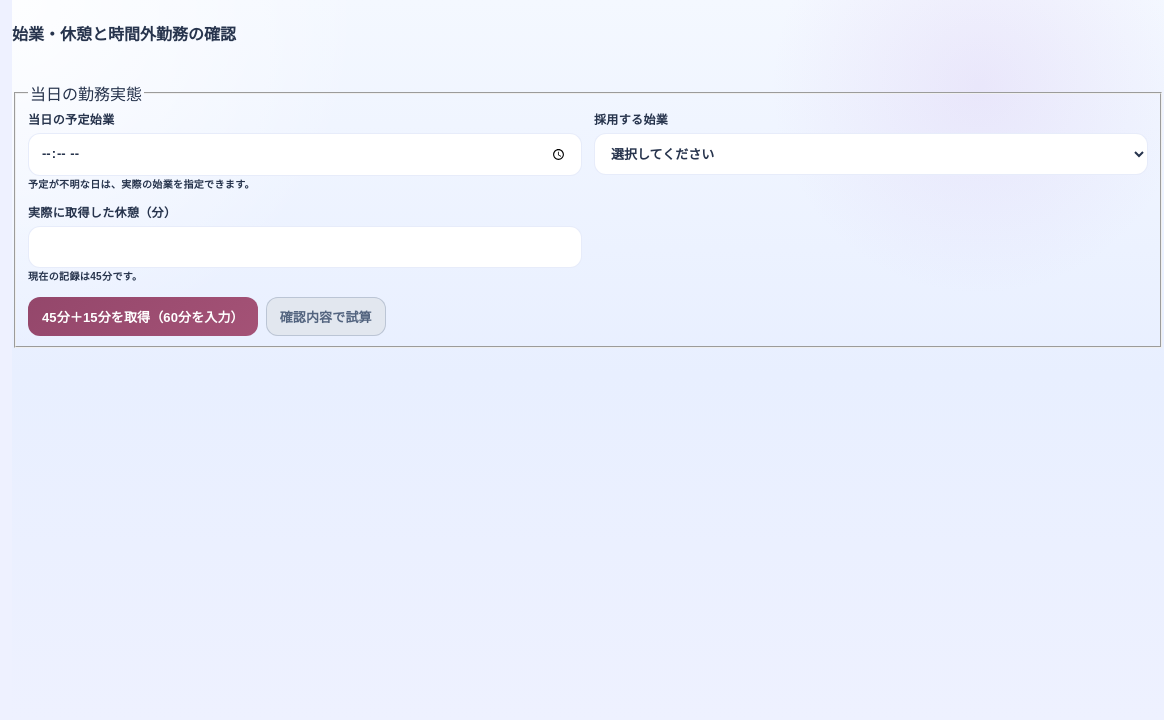
Scenario: 休憩不足の日次確認 › 予定不明では推定せず、実際の始業・休憩を入力して試算し明示的に計上する
This screenshot has width=1164, height=720.
Later steps or results of the test are not shown.
Expected: the button "確認内容で試算" is disabled, x1=266 y1=297 x2=386 y2=336
Select "予定・原打刻の計算ルールを使う" in the dropdown labelled "採用する始業" at [871, 154], box x1=594 y1=133 x2=1148 y2=175
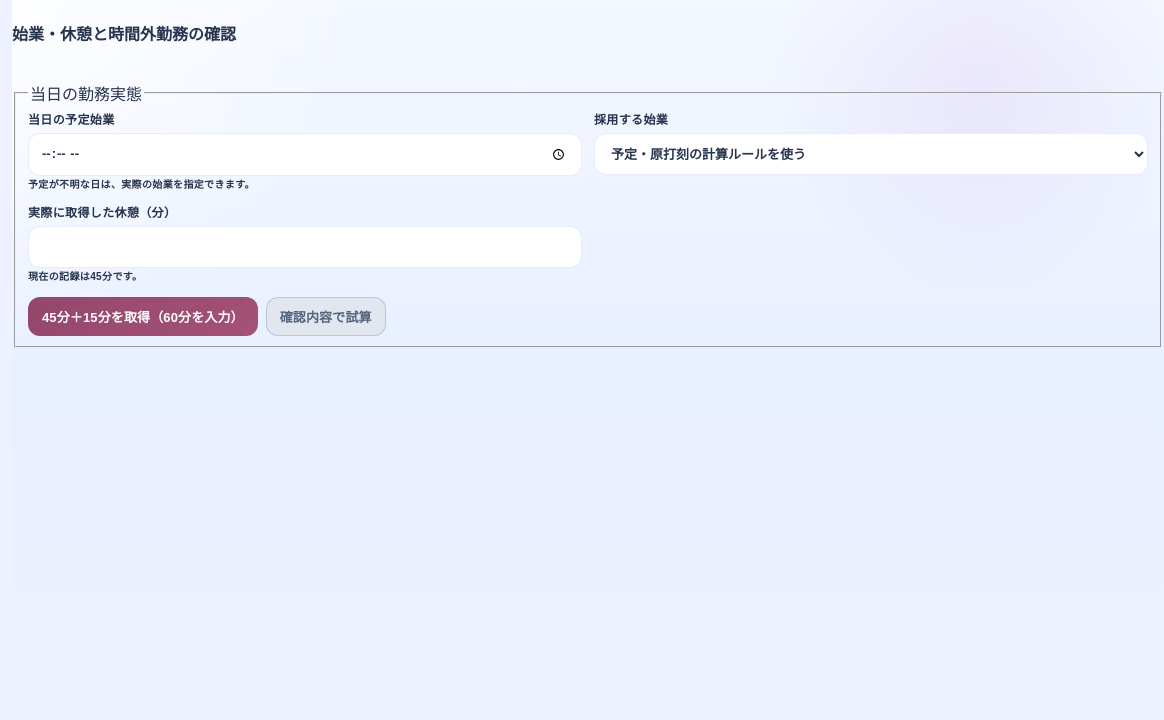
Click the button "45分＋15分を取得（60分を入力）" at [143, 316], box x1=28 y1=297 x2=258 y2=336
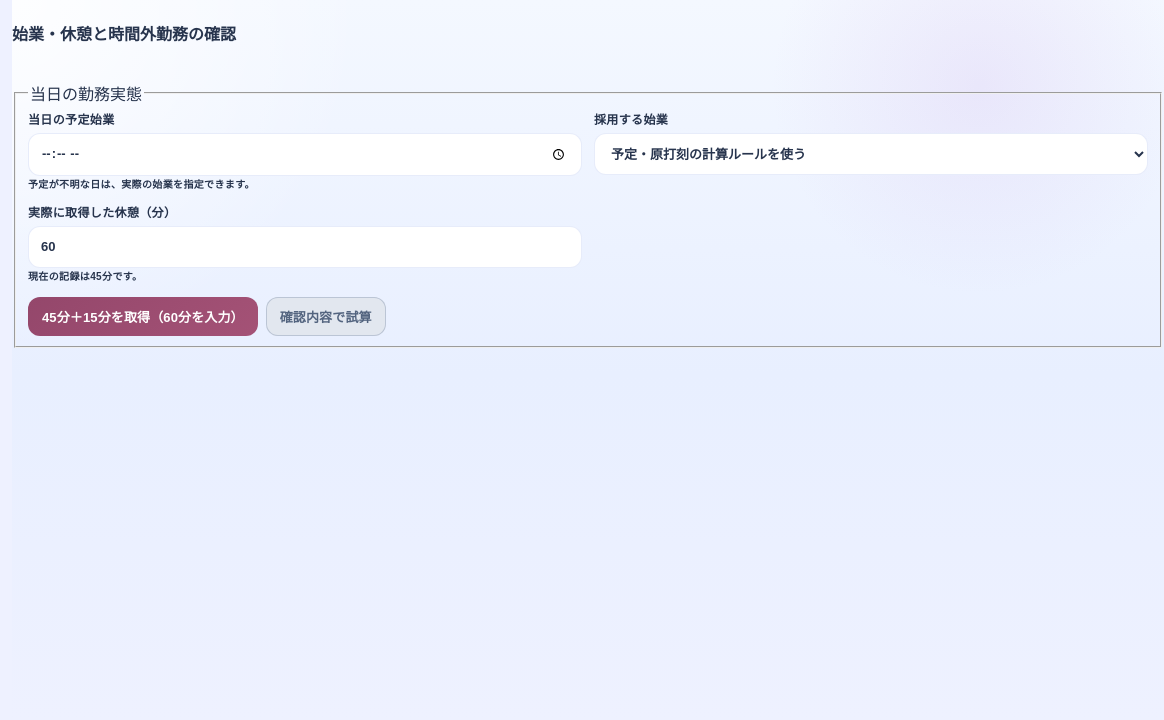
Expected: the button "確認内容で試算" is disabled, x1=266 y1=297 x2=386 y2=336
Select "実際の始業を指定する" in the dropdown labelled "採用する始業" at [871, 154], box x1=594 y1=133 x2=1148 y2=175
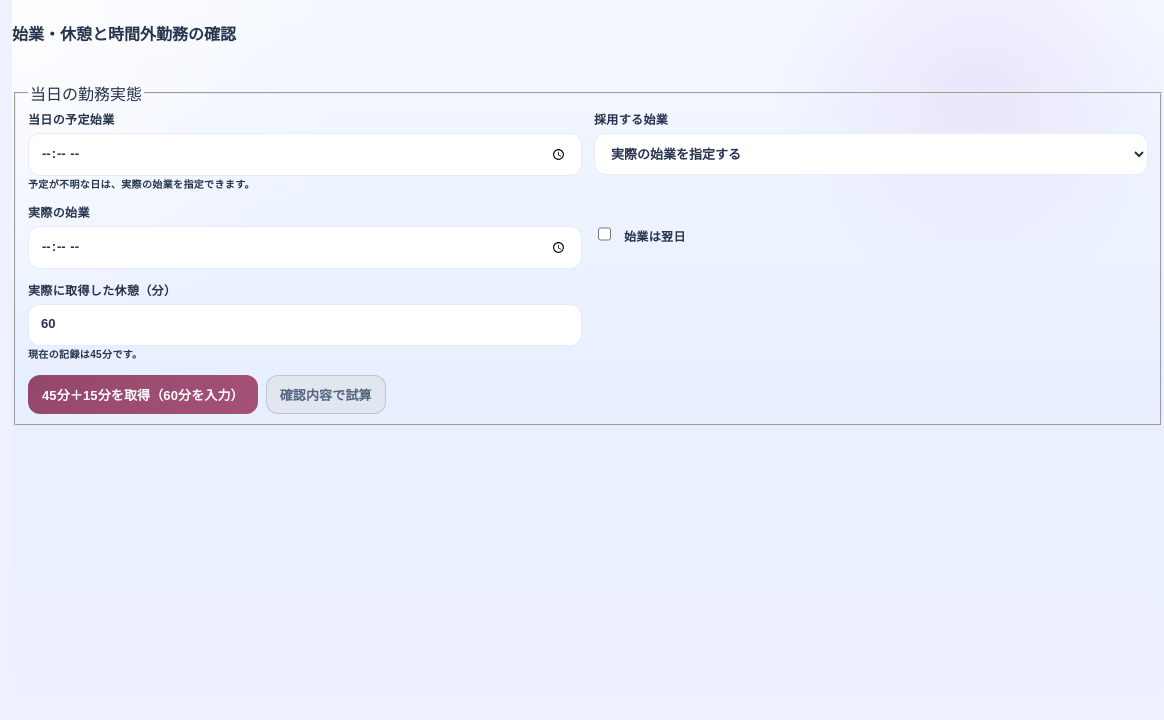
Type "07:56" into the time field labelled "実際の始業" at [305, 247], box x1=28 y1=226 x2=582 y2=269
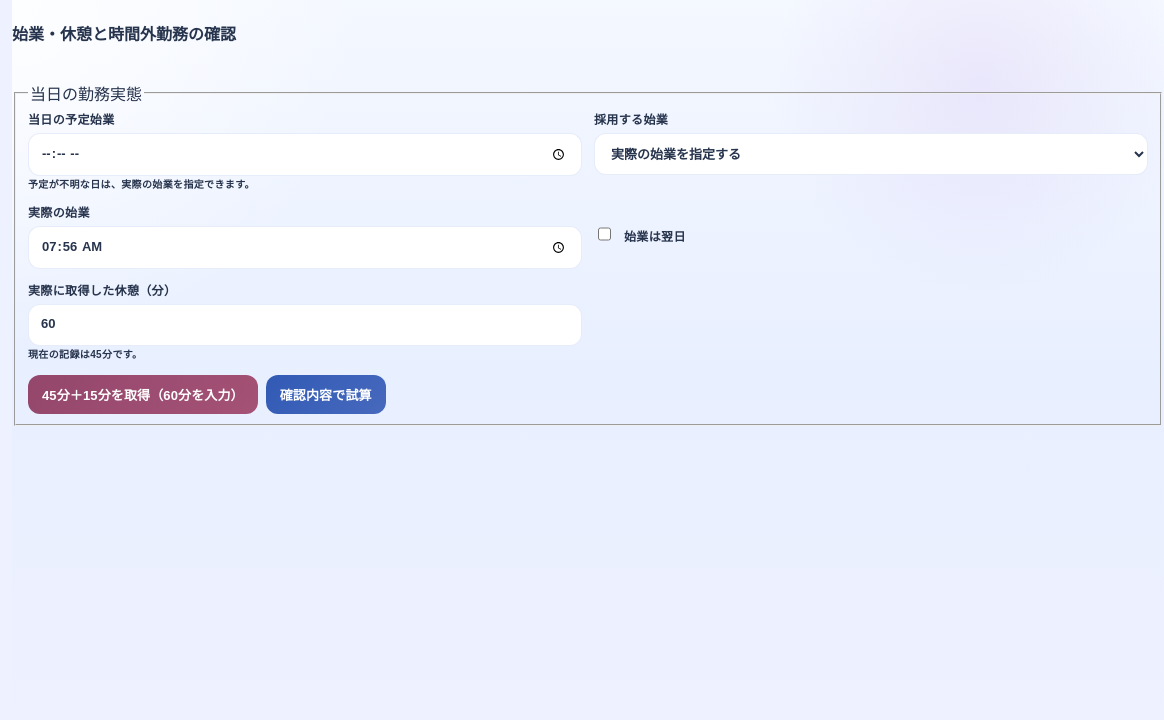
Click the button "確認内容で試算" at [326, 394], box x1=266 y1=375 x2=386 y2=414
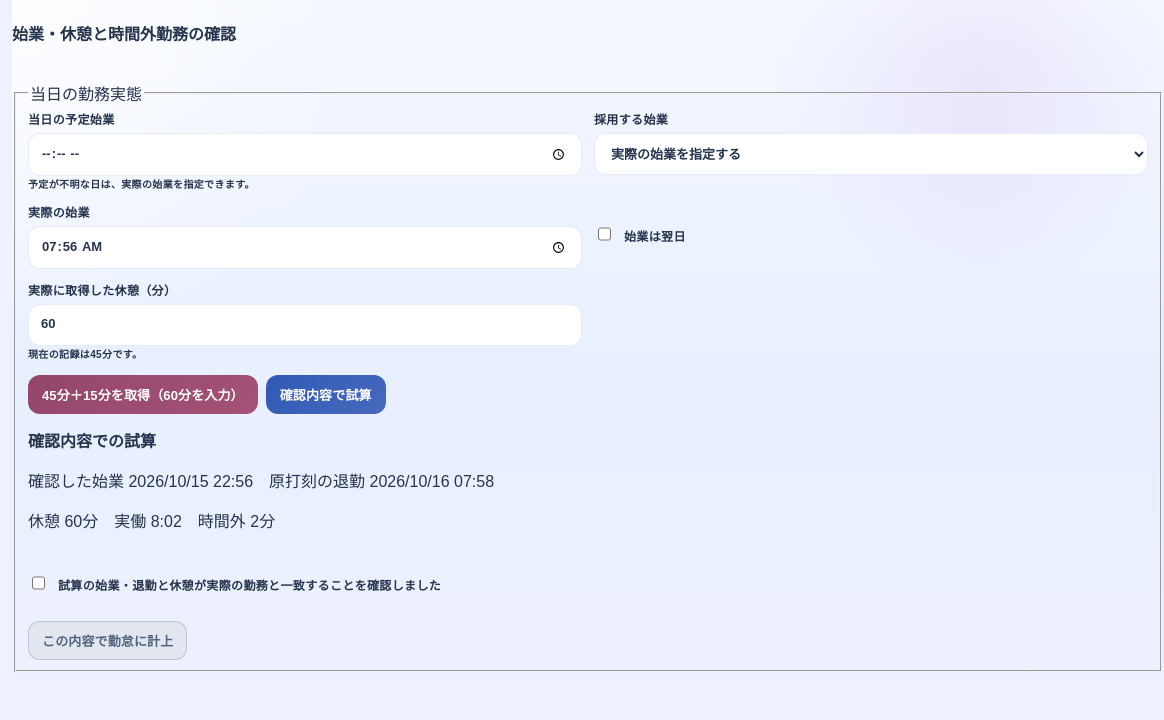
Now the button "この内容で勤怠に計上" is disabled, box x1=28 y1=621 x2=187 y2=660
Now the text "休憩 60分 実働 8:02 時間外 2分" is shown, box x1=28 y1=513 x2=275 y2=530
